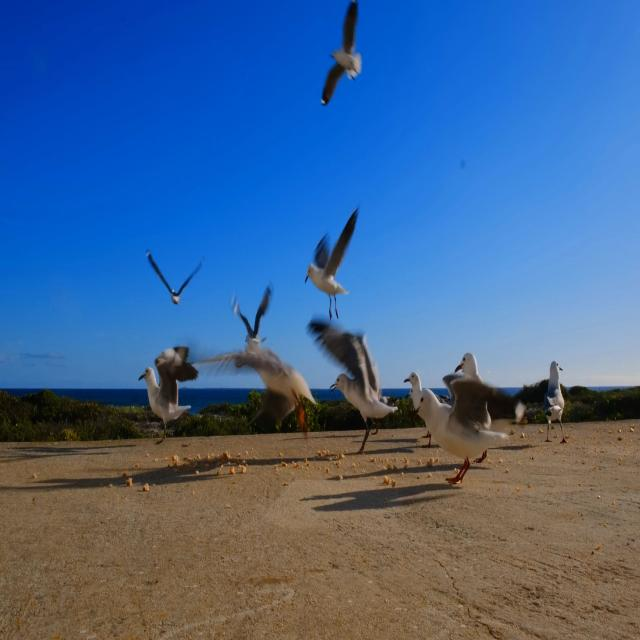bird: (219, 328, 325, 464), (312, 308, 396, 454), (116, 334, 209, 442), (413, 379, 498, 494), (313, 0, 381, 122), (134, 227, 211, 324), (298, 209, 366, 300), (518, 330, 575, 429), (212, 288, 282, 339)
